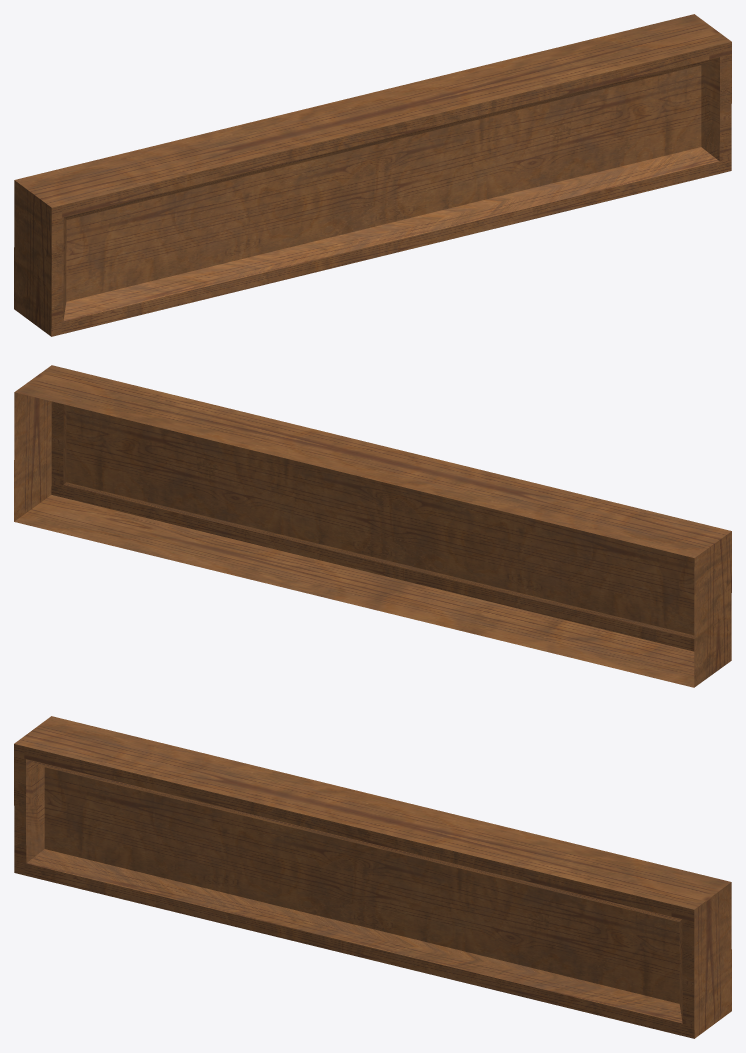
The model's file is StoreCartel.glb.
3 renders of one model, top to bottom at view 1: azimuth 30°, elevation 25°; view 2: azimuth 150°, elevation 25°; view 3: azimuth 330°, elevation 25°, orthographic.
Parts seen in each view (by area): view 1: StoreCartel; view 2: StoreCartel; view 3: StoreCartel.
Boxes of the visible parts, x1=… form: StoreCartel: x1=14, y1=14, x2=731, y2=336; StoreCartel: x1=14, y1=365, x2=731, y2=687; StoreCartel: x1=14, y1=716, x2=731, y2=1038.
Bounding box in the file's own units: 5.51 × 1 × 0.5308.
1 material, 1 textured.
